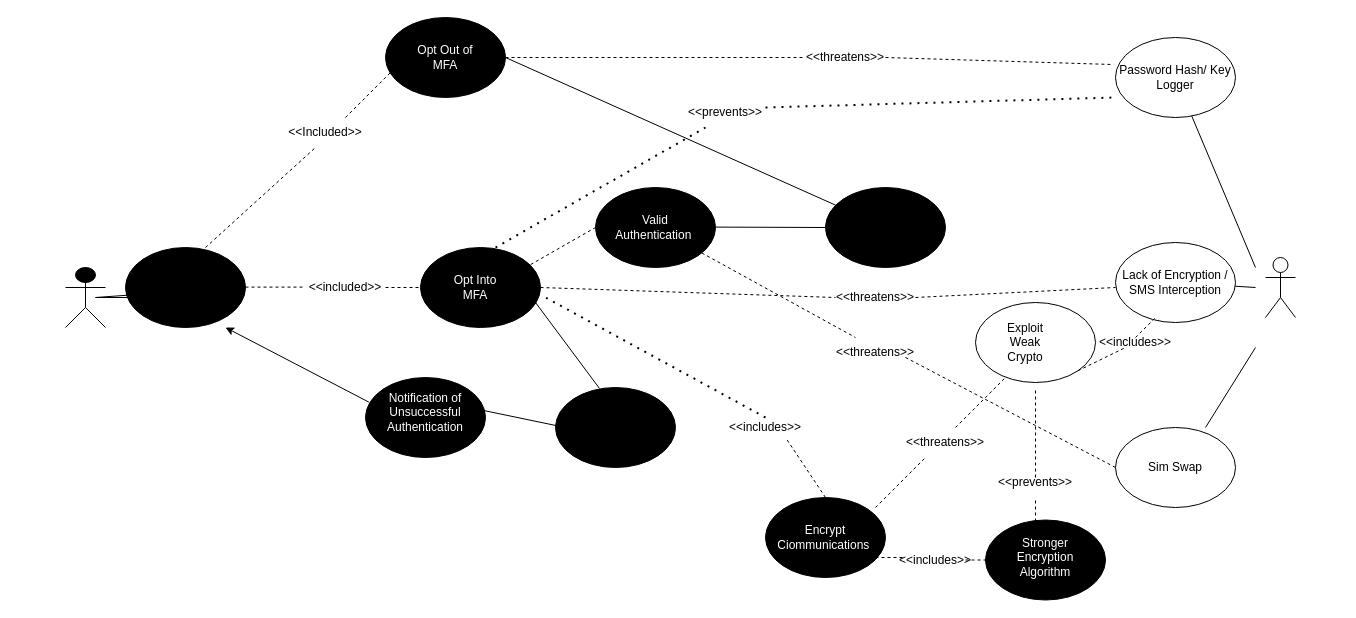
Some shapes in this 1356 by 618 pixel diagram are drawn without their labels. Each missing label, with the centre of its shape:
"Invalid Authentication" belongs at (615,427).
"Login Attempt" belongs at (185,287).
"Login Successful" belongs at (885,227).
"Ransomware Attacker" belongs at (1280,287).
"System Admin / Helpdesk" belongs at (85,297).
